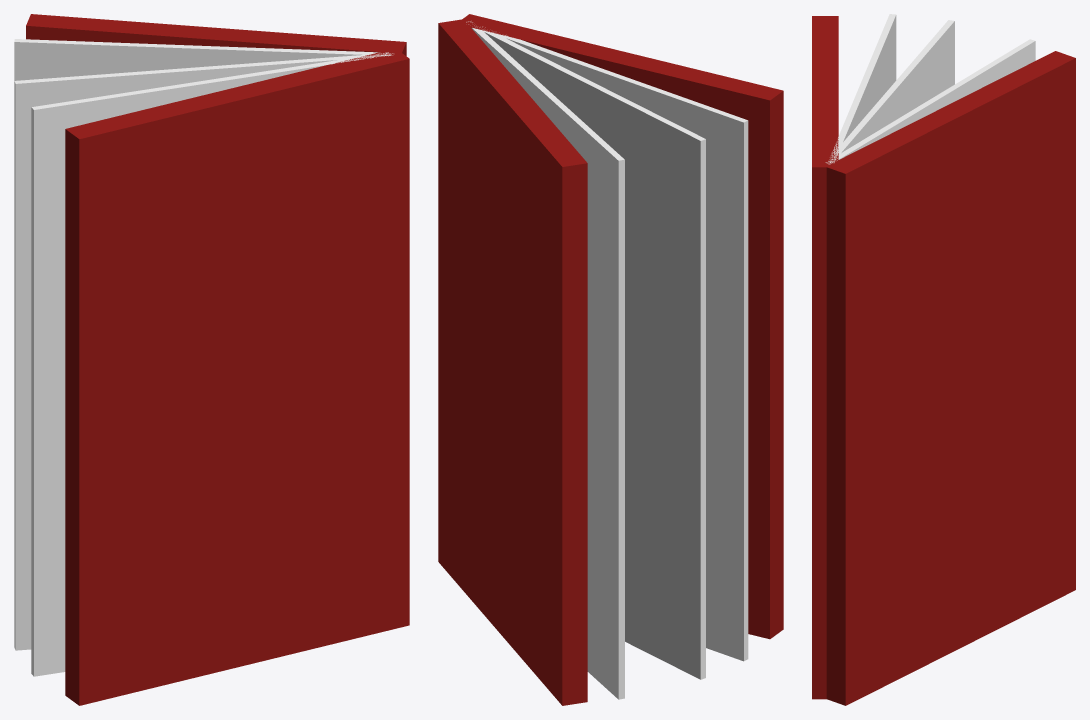
Rendered from SM_menu.fbx.
3 renders of one model, left to right at view 1: azimuth 30°, elevation 25°; view 2: azimuth 150°, elevation 25°; view 3: azimuth 270°, elevation 25°, orthographic. The views are drawn at different scales.
Parts seen in each view (by area): view 1: menu; view 2: menu; view 3: menu.
Part boxes in pixels (x1,y1,x2,y2): menu: (14, 14, 409, 705); menu: (438, 14, 783, 705); menu: (812, 14, 1075, 705).
Bounding box in the file's own units: 31.65 × 49.07 × 22.06.
